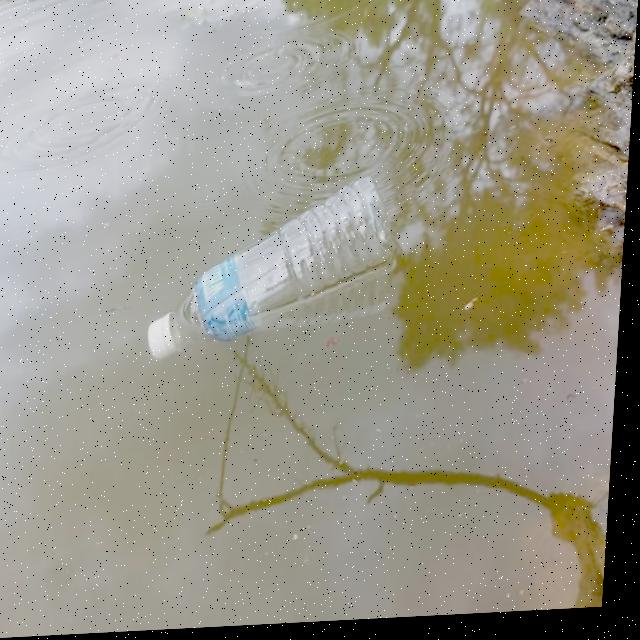waterbottle: (130, 163, 409, 376)
